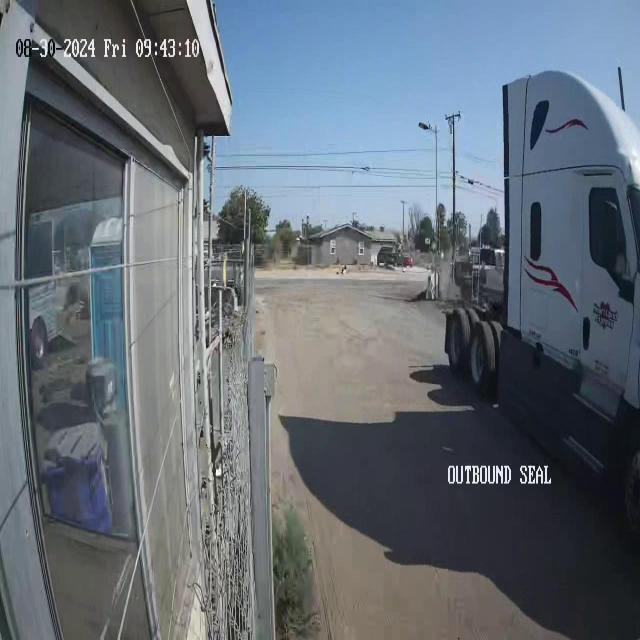TRUCK_IN: (445, 74, 639, 495)
